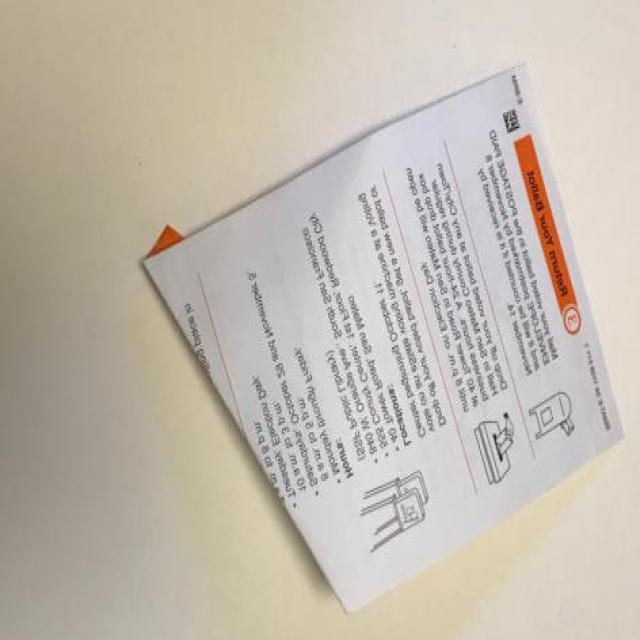kertas: (143, 60, 627, 617)
